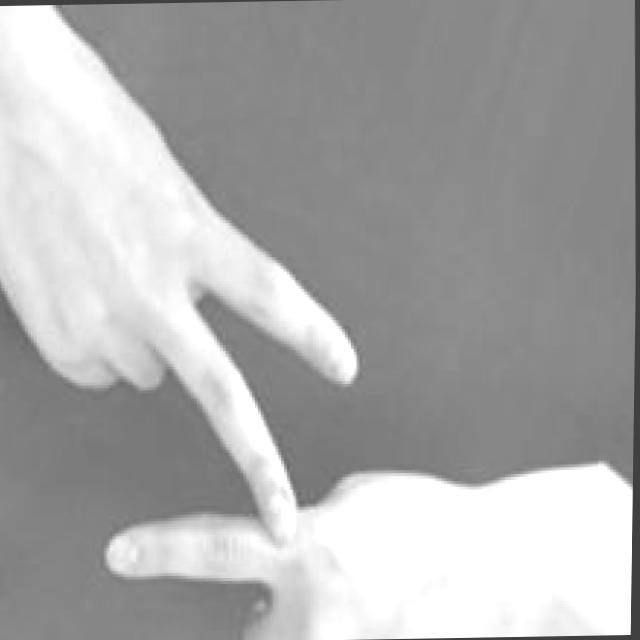Z: (0, 165, 638, 640)
